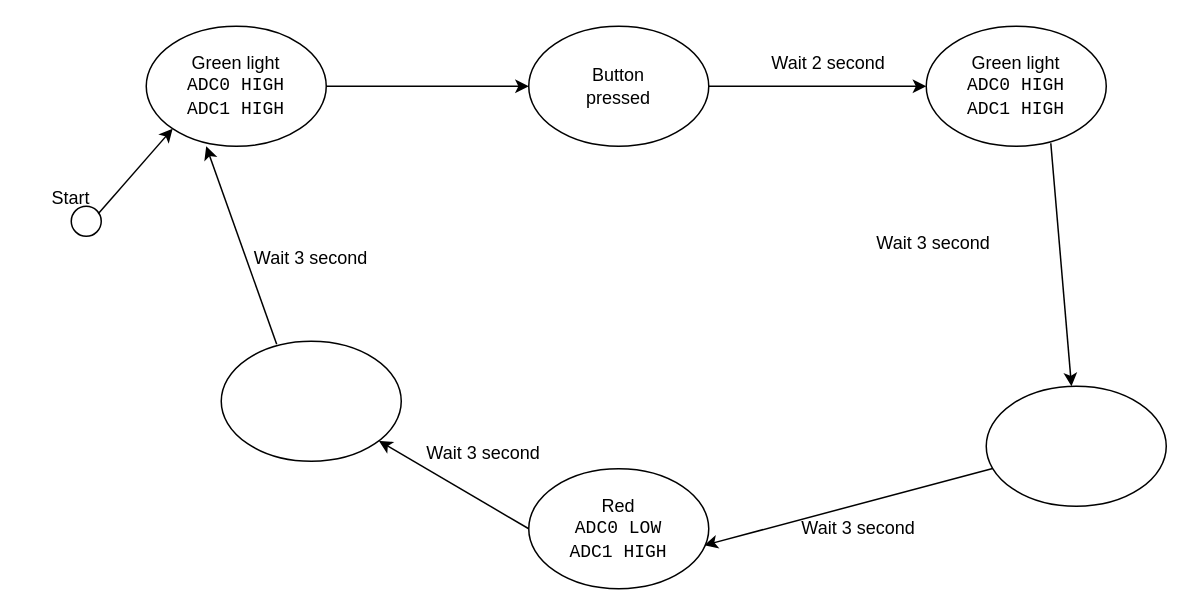
Image size: 1193x615. Some labels were removed from this diagram. The centre of each missing label's shape, as x and y in pixels:
"Green & Amber ADC0 HIGH ADC1 LOW" belongs at pixel 1075 445.
"Red & Amber ADC0 LOW ADC1 LOW" belongs at pixel 310 400.
